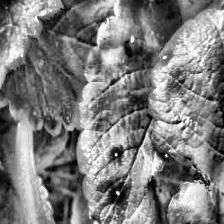Leaf Spot: (74, 0, 182, 224), (147, 0, 224, 224)
